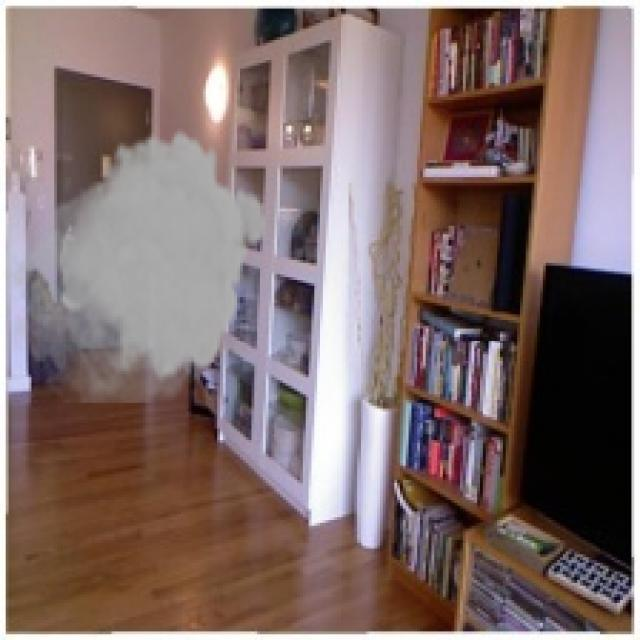Smoke: (2, 126, 268, 403)
